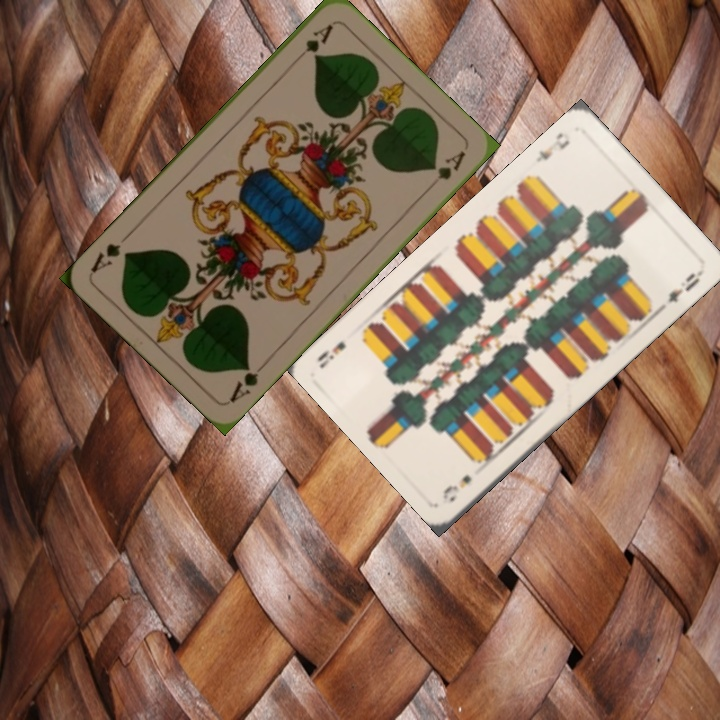E9: (531, 128, 572, 166), (438, 470, 475, 505)
GA: (225, 359, 270, 406), (291, 20, 336, 66)
